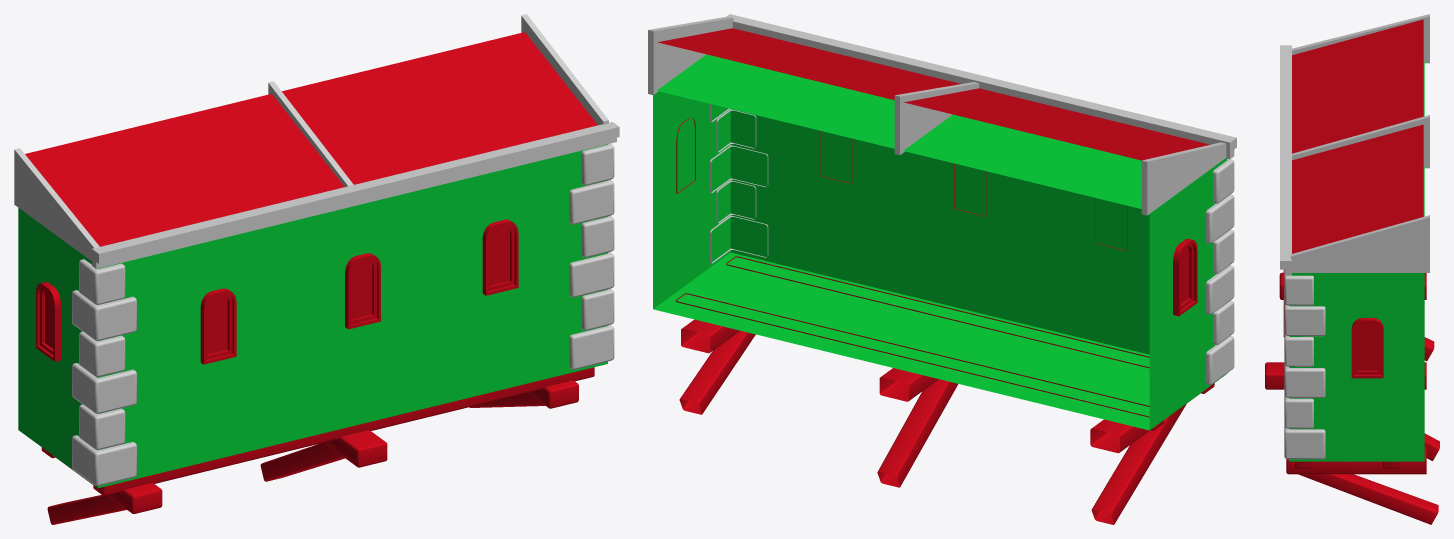
The model's file is Balcony.fbx.
3 renders of one model, left to right at view 1: azimuth 30°, elevation 25°; view 2: azimuth 150°, elevation 25°; view 3: azimuth 270°, elevation 25°, orthographic. The views are drawn at different scales.
Visible parts, largest first — view 1: Balcony; view 2: Balcony; view 3: Balcony.
Part boxes in pixels (x1,y1,x2,y2): Balcony: (14, 14, 619, 524); Balcony: (648, 14, 1236, 524); Balcony: (1265, 14, 1439, 524).
Size of the model in its own units: 599 by 444 by 204.
